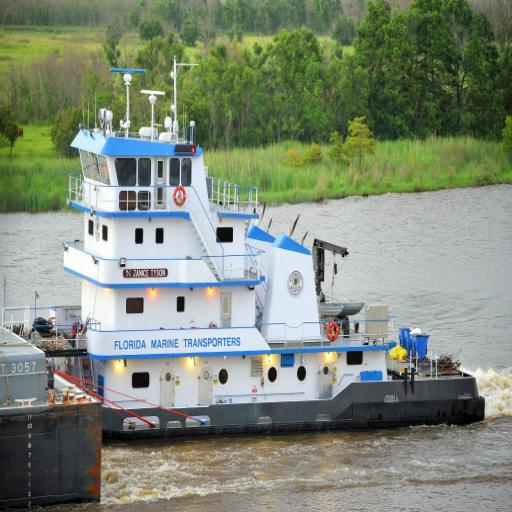tugboat: (2, 110, 489, 439)
